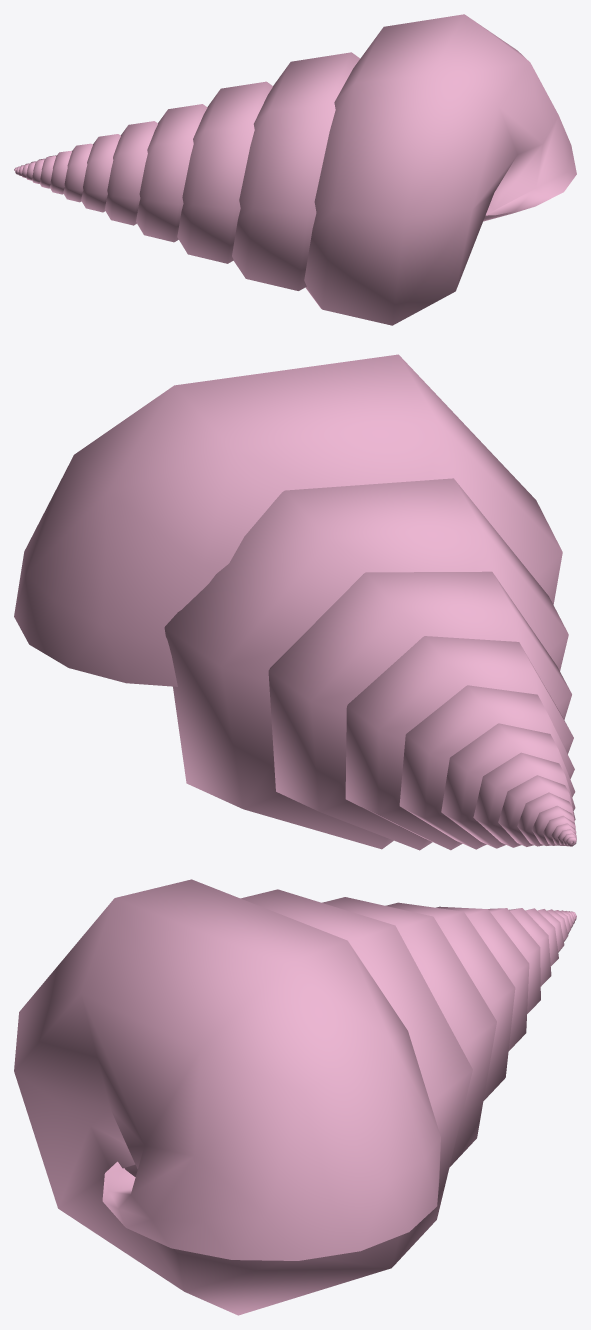
The model's file is Spiral Shell.fbx.
3 views of the same model, one above another, from view 1: azimuth 30°, elevation 25°; view 2: azimuth 150°, elevation 25°; view 3: azimuth 270°, elevation 25° (orthographic). The views are drawn at different scales.
Visible parts, largest first — view 1: Spiral Shell; view 2: Spiral Shell; view 3: Spiral Shell.
Boxes of the visible parts, box(x1,y1,x2,y2) form: Spiral Shell: box(14, 14, 576, 325); Spiral Shell: box(14, 354, 576, 850); Spiral Shell: box(14, 879, 576, 1315).
Size of the model in its own units: 1.02 by 0.603 by 0.7351.
